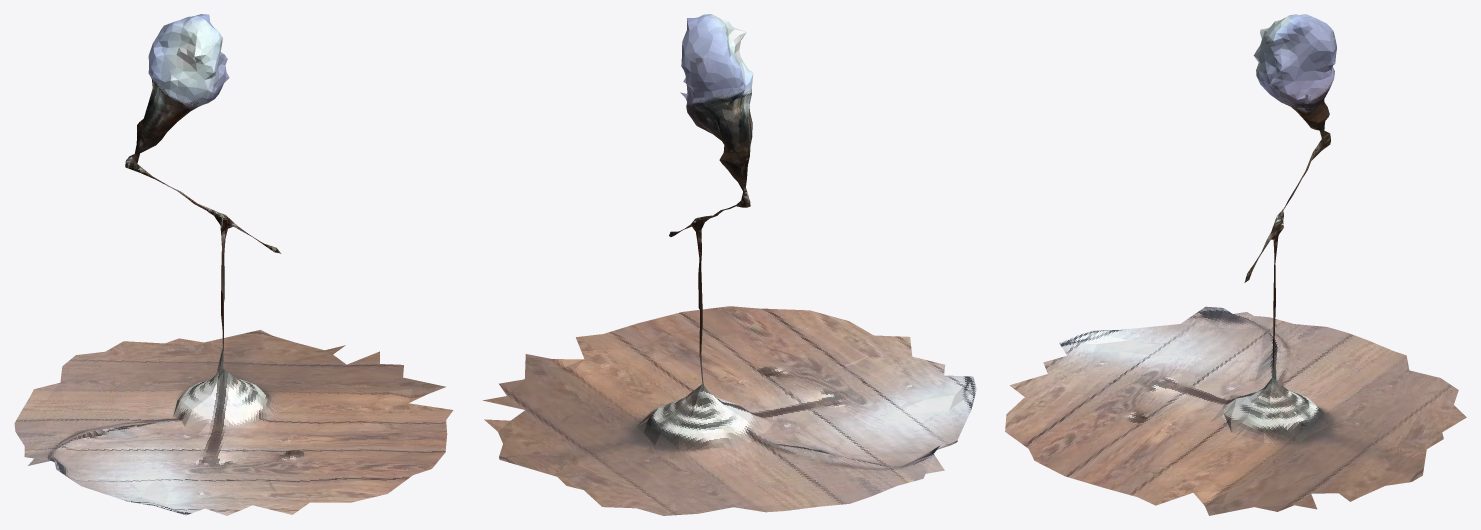
The model's file is 1024-weather.glb.
The picture shows the model from 3 angles, left to right: view 1: azimuth 30°, elevation 25°; view 2: azimuth 150°, elevation 25°; view 3: azimuth 270°, elevation 25°; orthographic projection. The views are drawn at different scales.
Parts seen in each view (by area): view 1: Mesh_0; view 2: Mesh_0; view 3: Mesh_0.
Boxes of the visible parts, box(x1,y1,x2,y2) form: Mesh_0: box(14, 14, 453, 515); Mesh_0: box(482, 14, 976, 515); Mesh_0: box(1005, 14, 1466, 515).
Size of the model in its own units: 0.7823 by 0.7369 by 0.767.
1 material, 1 textured.
